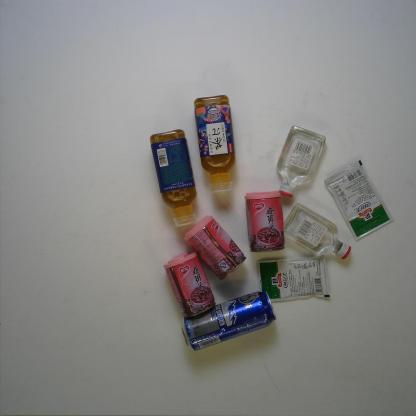Alcohol: (179, 289, 278, 354), (280, 202, 352, 262), (277, 126, 326, 199)
Canned Food: (182, 210, 246, 284), (164, 249, 218, 320), (245, 189, 287, 253)
Drink: (148, 124, 202, 228), (191, 94, 240, 198)
Seasoner: (324, 161, 394, 241), (255, 253, 330, 304)
